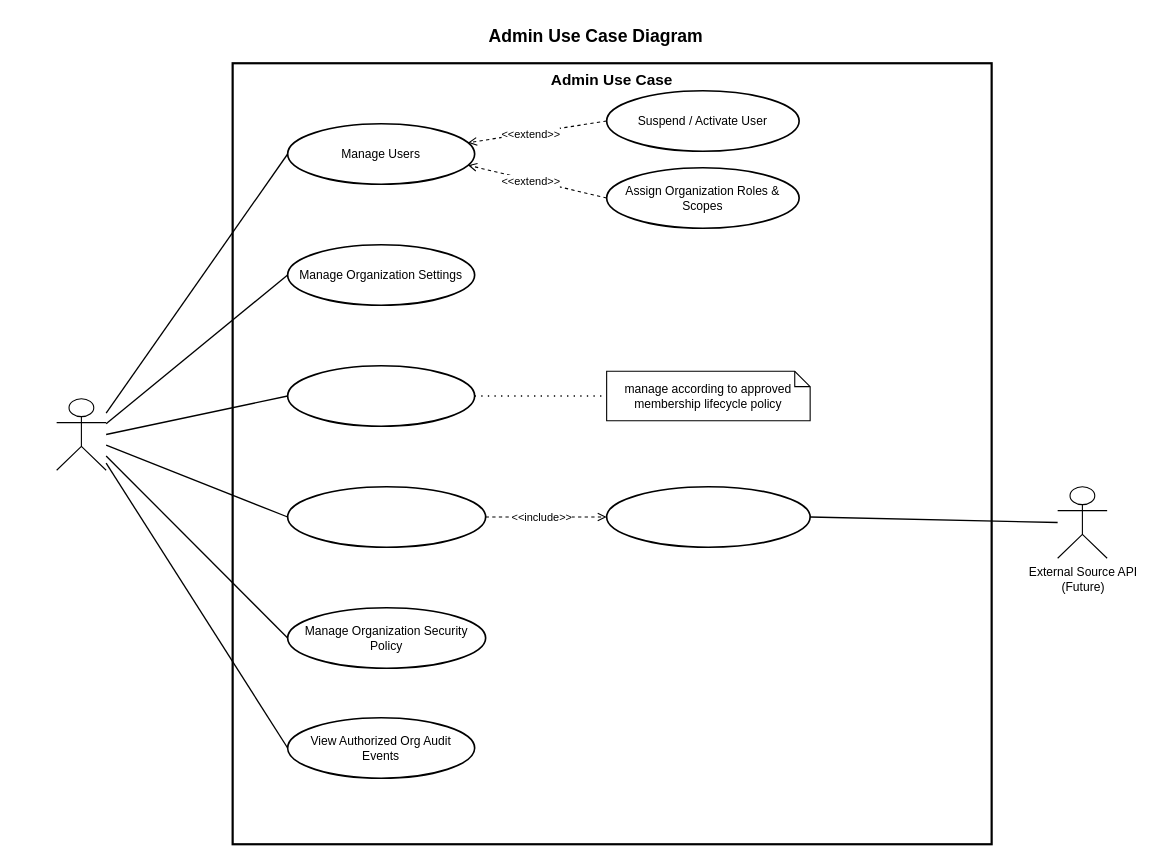
Image size: 1155x864. Some labels were removed from this diagram. The shapes that lost their labels are listed below. From the top down, each one's box as (x1, y1, x2, y2) in pixels, then its label:
(286, 364, 475, 427): Manage Organization Memberships
(56, 398, 106, 470): Organization Admin
(286, 485, 486, 548): Configure External Source (Future, not task source)
(605, 485, 810, 548): Receive External Source Events (Future)
